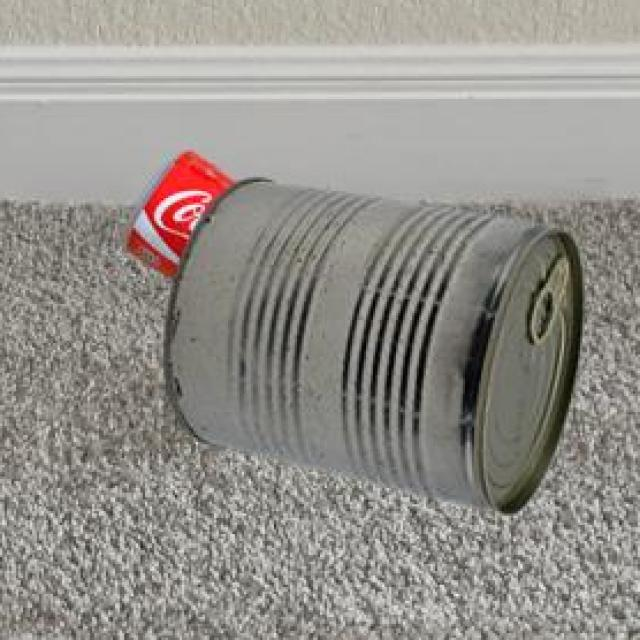logam: (162, 176, 579, 512), (121, 148, 234, 275)
